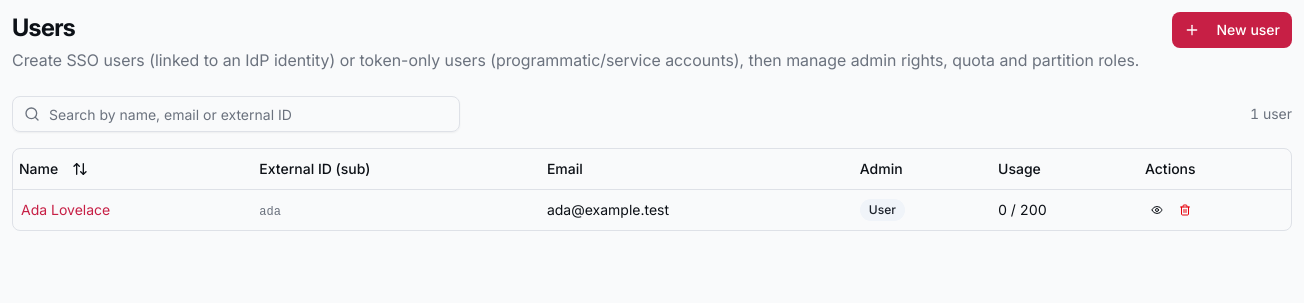
Test: UserListPage › shows a clear no-result state and restores the list when search is cleared
In the search field named "Search users": (236, 114) [12,96,460,132], type "missing account"
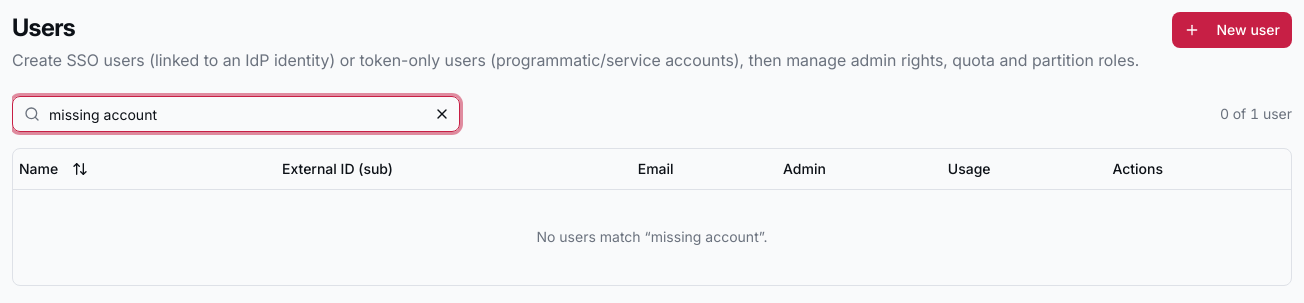
Now the text "No users match “missing account”." is shown, box [13,189,1291,285]
Click the button named "Clear user search": (442, 114) [426,98,458,130]
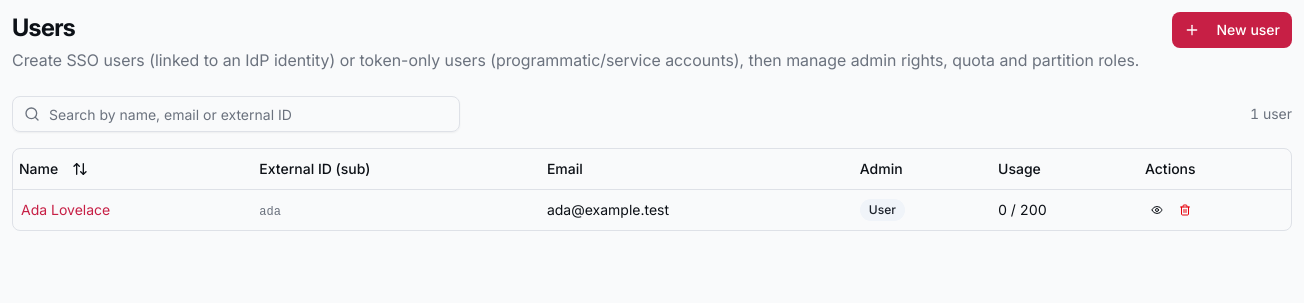
Expected: the message reads "1 user", [1250,105,1292,122]
Now the link "Ada Lovelace" is shown, box [21,200,110,218]
